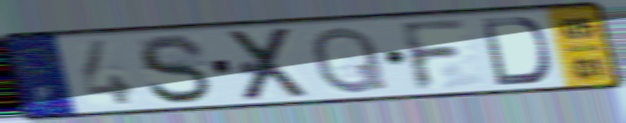4: (81, 37, 137, 108)
D: (478, 15, 554, 88)
F: (396, 16, 473, 93)
Q: (308, 23, 392, 97)
S: (134, 32, 216, 106)
X: (224, 25, 314, 104)
